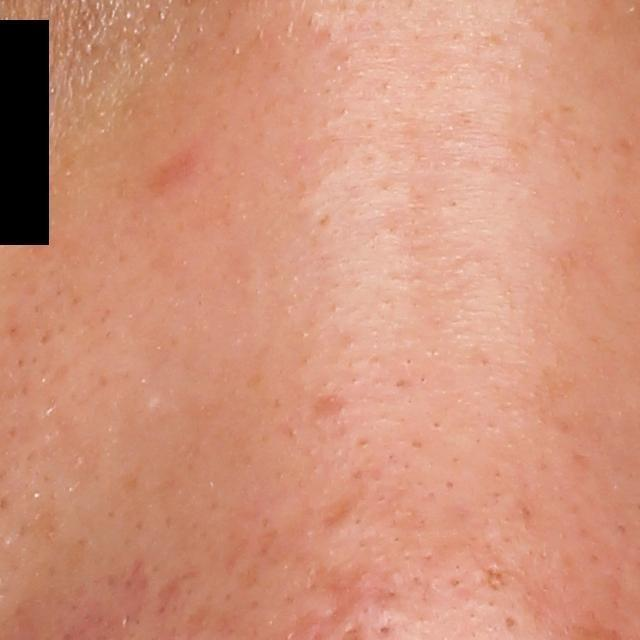comedo: (502, 615, 520, 634)
